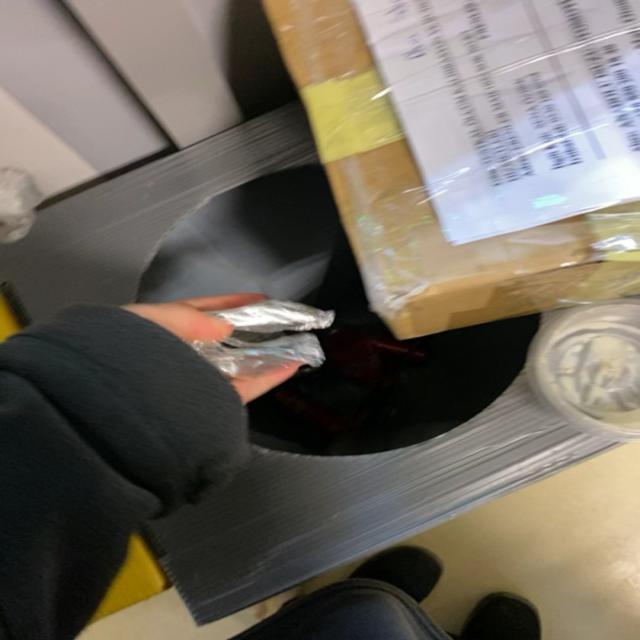Bin: (1, 102, 619, 624)
Metal: (190, 299, 334, 377)
